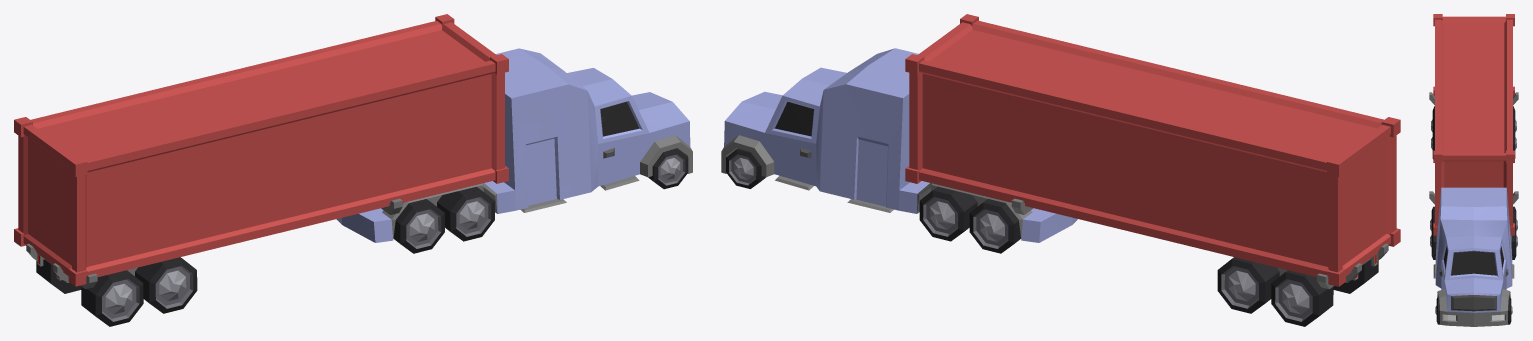
The model's file is car_truck_2.fbx.
The picture shows the model from 3 angles, left to right: view 1: azimuth 30°, elevation 25°; view 2: azimuth 150°, elevation 25°; view 3: azimuth 270°, elevation 25°; orthographic projection. The views are drawn at different scales.
Visible parts, largest first — view 1: car_container_2, car_truck_2, car_trailer_2, car_truck_2_wheels_F; view 2: car_container_2, car_truck_2, car_trailer_2, car_truck_2_wheels_F; view 3: car_container_2, car_truck_2, car_trailer_2, car_truck_2_wheels_F.
Boxes of the visible parts, x1,y1,x2,y2 form: car_container_2: (14, 14, 508, 286); car_truck_2: (336, 48, 692, 253); car_trailer_2: (26, 198, 402, 326); car_truck_2_wheels_F: (648, 148, 688, 189); car_container_2: (905, 14, 1400, 286); car_truck_2: (721, 48, 1077, 253); car_trailer_2: (1011, 198, 1388, 326); car_truck_2_wheels_F: (726, 148, 766, 188); car_container_2: (1433, 14, 1514, 235); car_truck_2: (1430, 187, 1517, 326); car_trailer_2: (1429, 92, 1518, 204); car_truck_2_wheels_F: (1435, 296, 1512, 324).
Bounding box in the file's own units: 2007 × 520 × 369.
